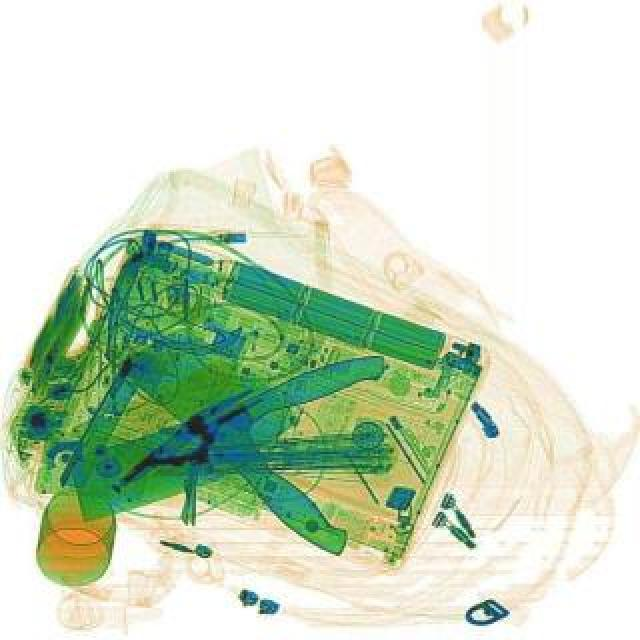knife: (114, 308, 392, 564), (60, 346, 406, 522)
